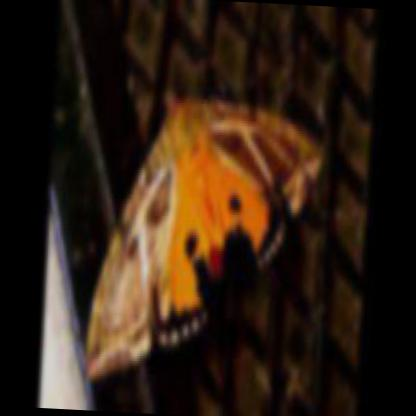fruit sucking moth: (88, 83, 320, 379)
